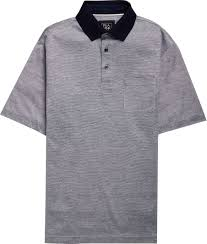C_polo shirt: (10, 1, 193, 241)
